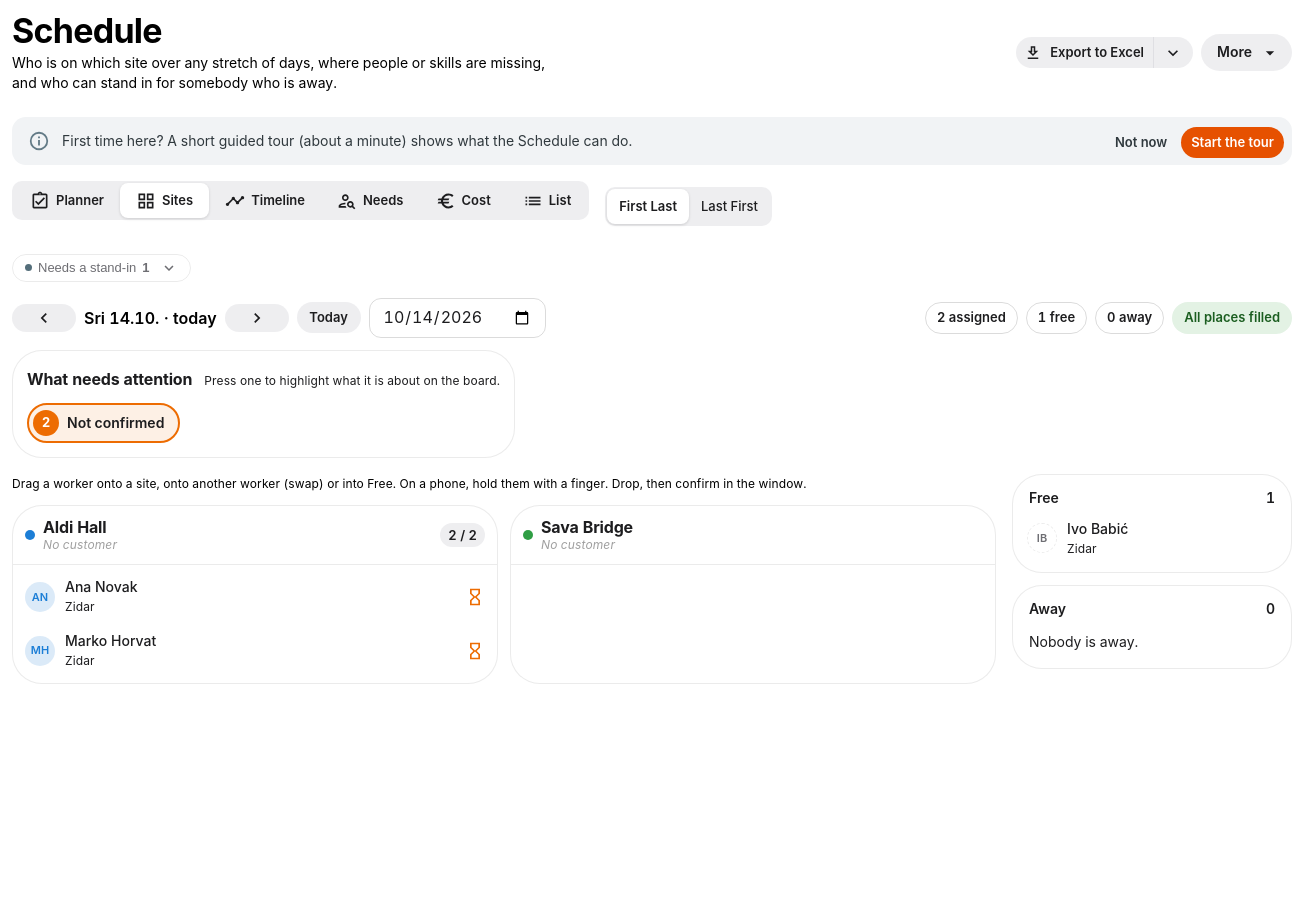
PlanningPage › labour cost › is offered to somebody who may see pay, with planned beside recorded and a warning for unpriced days
Click the button with aria-label "Labour cost": [463, 201] box [420,183,507,218]
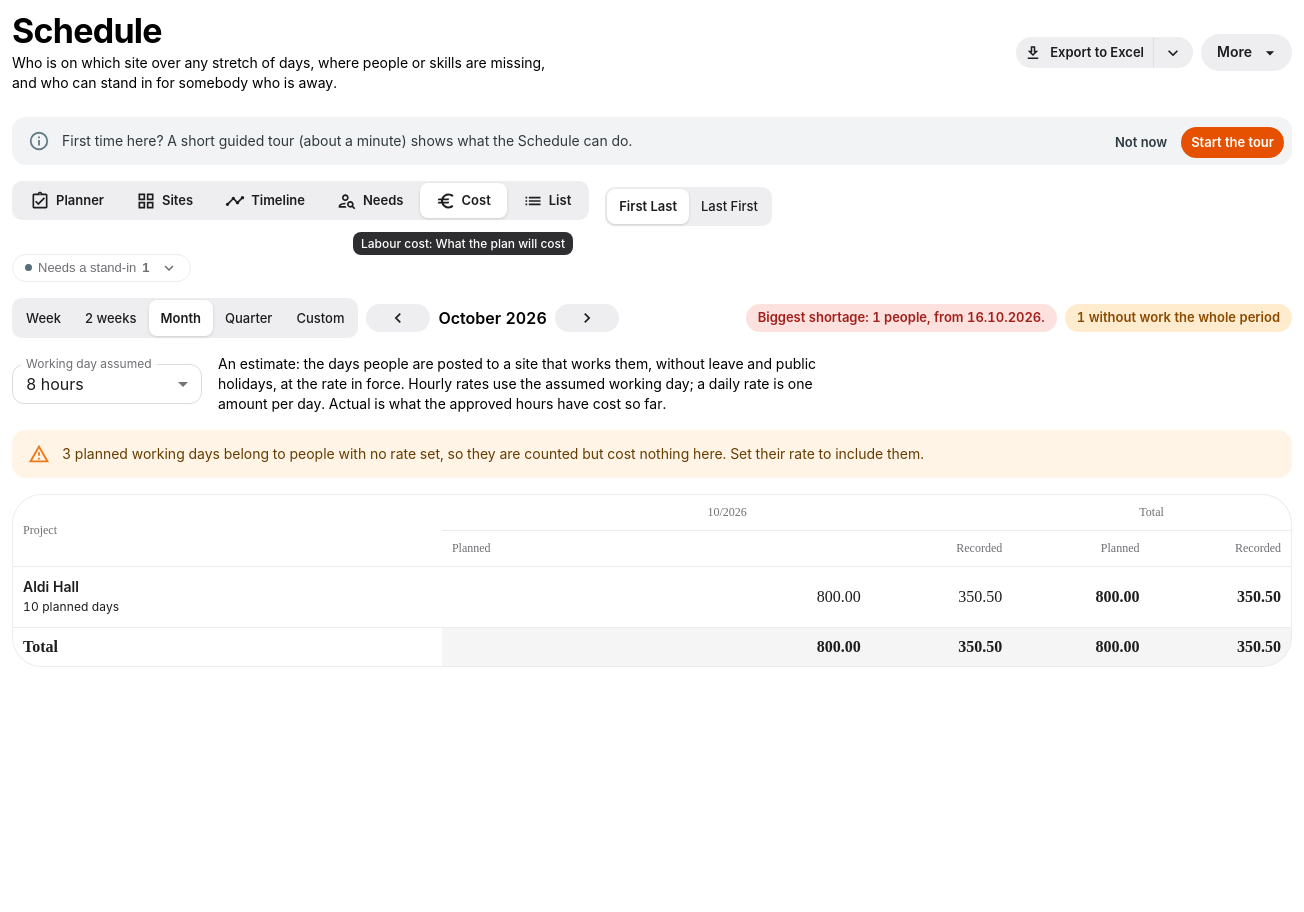
Expected: the 1st text "800.00" is shown, [442,567,871,628]
Expected: the 1st text "350.50" is shown, [871,567,1012,628]
Expected: the text "3 planned working days belong to people with no rate set" is shown, [62,445,924,462]
